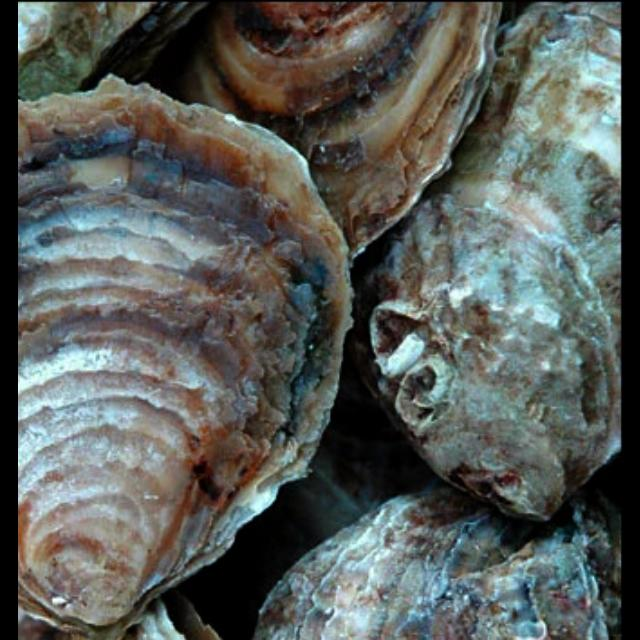Oyster-Closed: (17, 75, 353, 632), (346, 0, 621, 518), (179, 0, 504, 256), (253, 481, 621, 638), (247, 362, 447, 634)
Oyster-Open: (17, 0, 215, 101), (119, 589, 224, 638), (17, 610, 119, 638)
